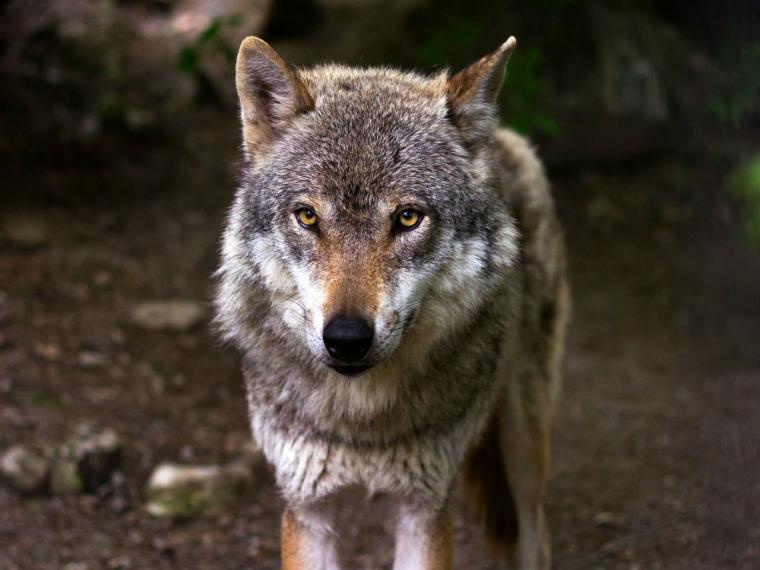Lobo: (193, 27, 553, 528)
